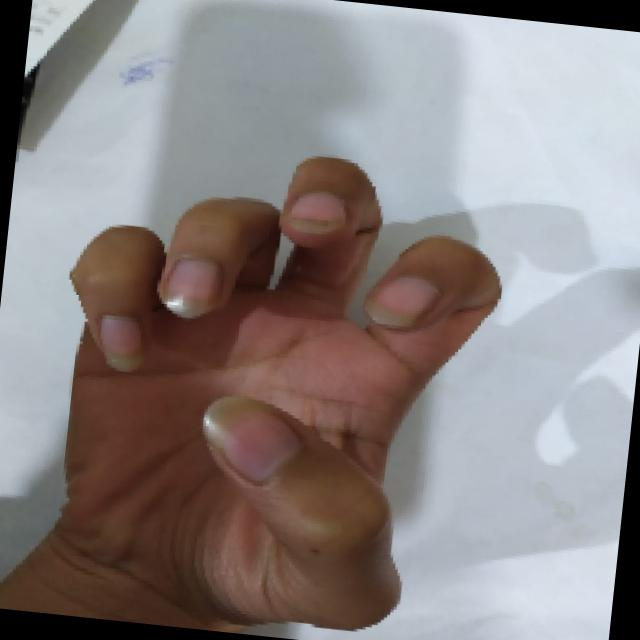Nail: (202, 396, 303, 483), (364, 276, 438, 328), (165, 257, 221, 317), (288, 190, 347, 235), (100, 315, 142, 371)
